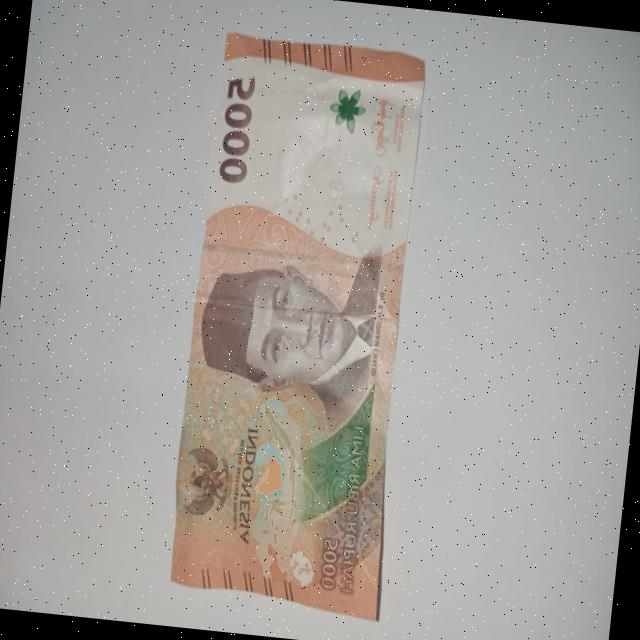5K: (150, 26, 452, 632)
